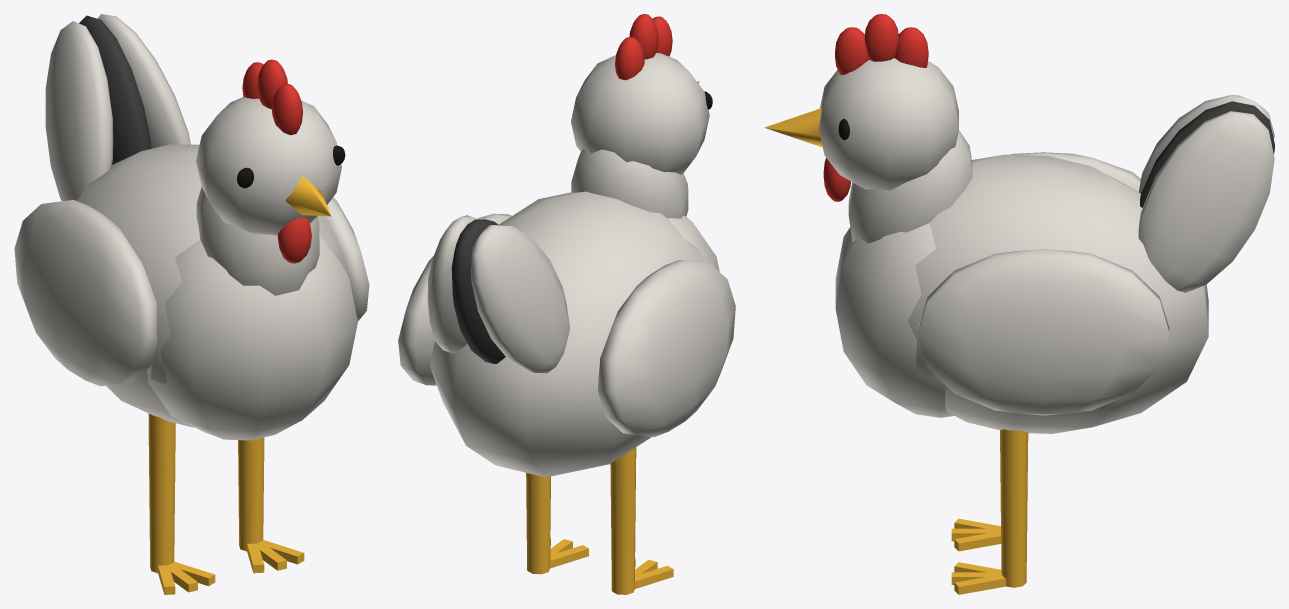
Rendered from gallina.glb.
3 renders of one model, left to right at view 1: azimuth 30°, elevation 25°; view 2: azimuth 150°, elevation 25°; view 3: azimuth 270°, elevation 25°, orthographic. The views are drawn at different scales.
Parts seen in each view (by area): view 1: gallina; view 2: gallina; view 3: gallina.
Part boxes in pixels (bbox=[...]): gallina: bbox=[14, 14, 369, 594]; gallina: bbox=[398, 14, 735, 594]; gallina: bbox=[764, 14, 1274, 594].
Bounding box in the file's own units: 0.4311 × 0.82 × 0.6947.
